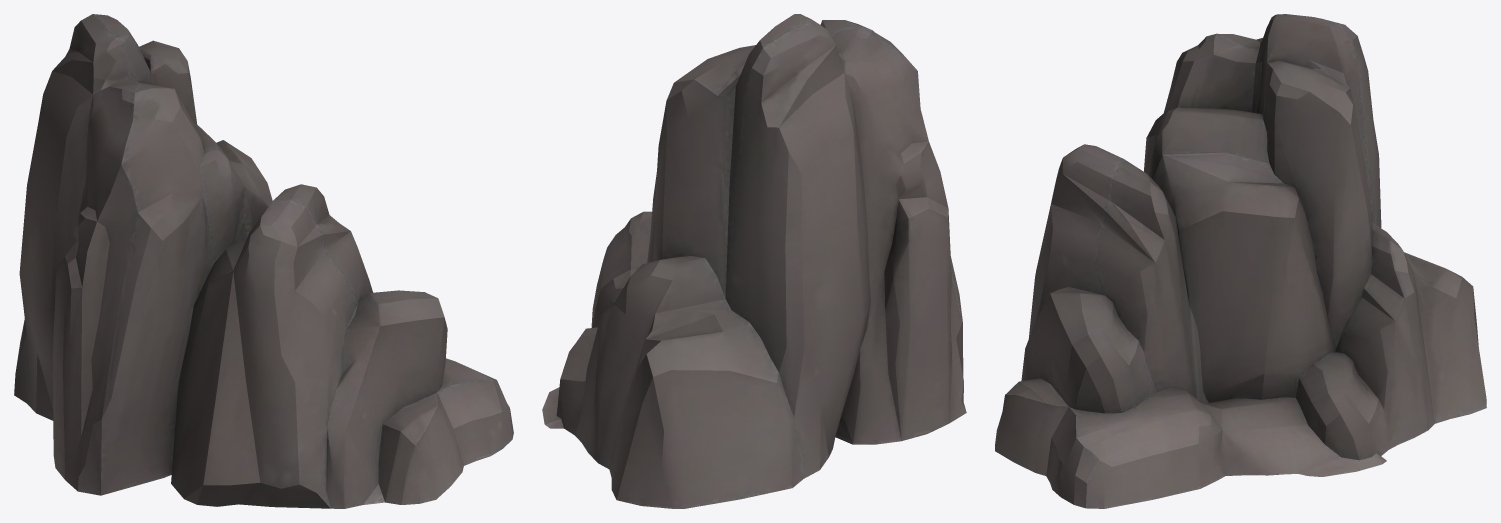
The picture shows the model from 3 angles, left to right: view 1: azimuth 30°, elevation 25°; view 2: azimuth 150°, elevation 25°; view 3: azimuth 270°, elevation 25°; orthographic projection. The views are drawn at different scales.
Parts seen in each view (by area): view 1: body0_model0_lod0_mesh0; view 2: body0_model0_lod0_mesh0; view 3: body0_model0_lod0_mesh0.
Boxes of the visible parts, left/top/right/bottom form: body0_model0_lod0_mesh0: left=14, top=14, right=513, bottom=508; body0_model0_lod0_mesh0: left=542, top=14, right=966, bottom=508; body0_model0_lod0_mesh0: left=995, top=14, right=1486, bottom=508.
Bounding box in the file's own units: 298 × 290 × 354.
1 material, 1 textured.
